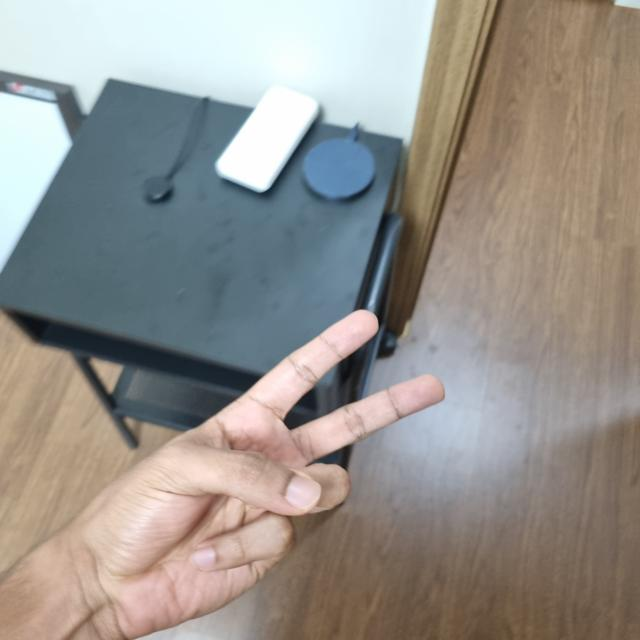Scissors: (24, 313, 437, 637)
